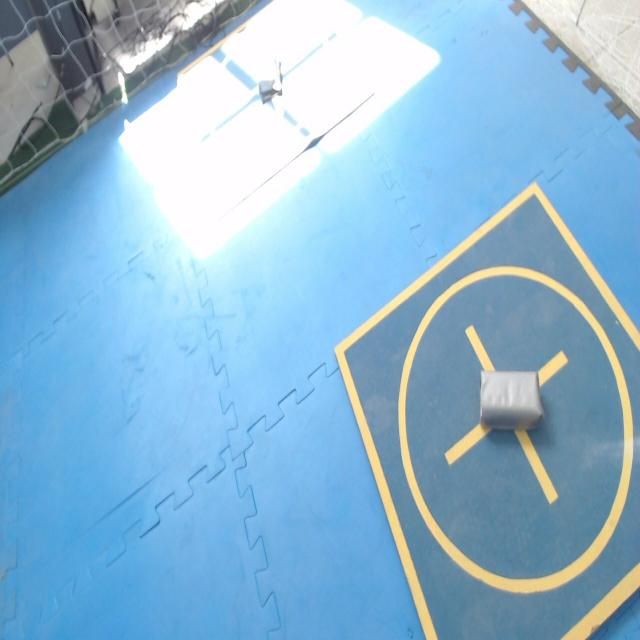direita: (258, 59, 282, 103)
horizontal: (480, 371, 543, 429)
